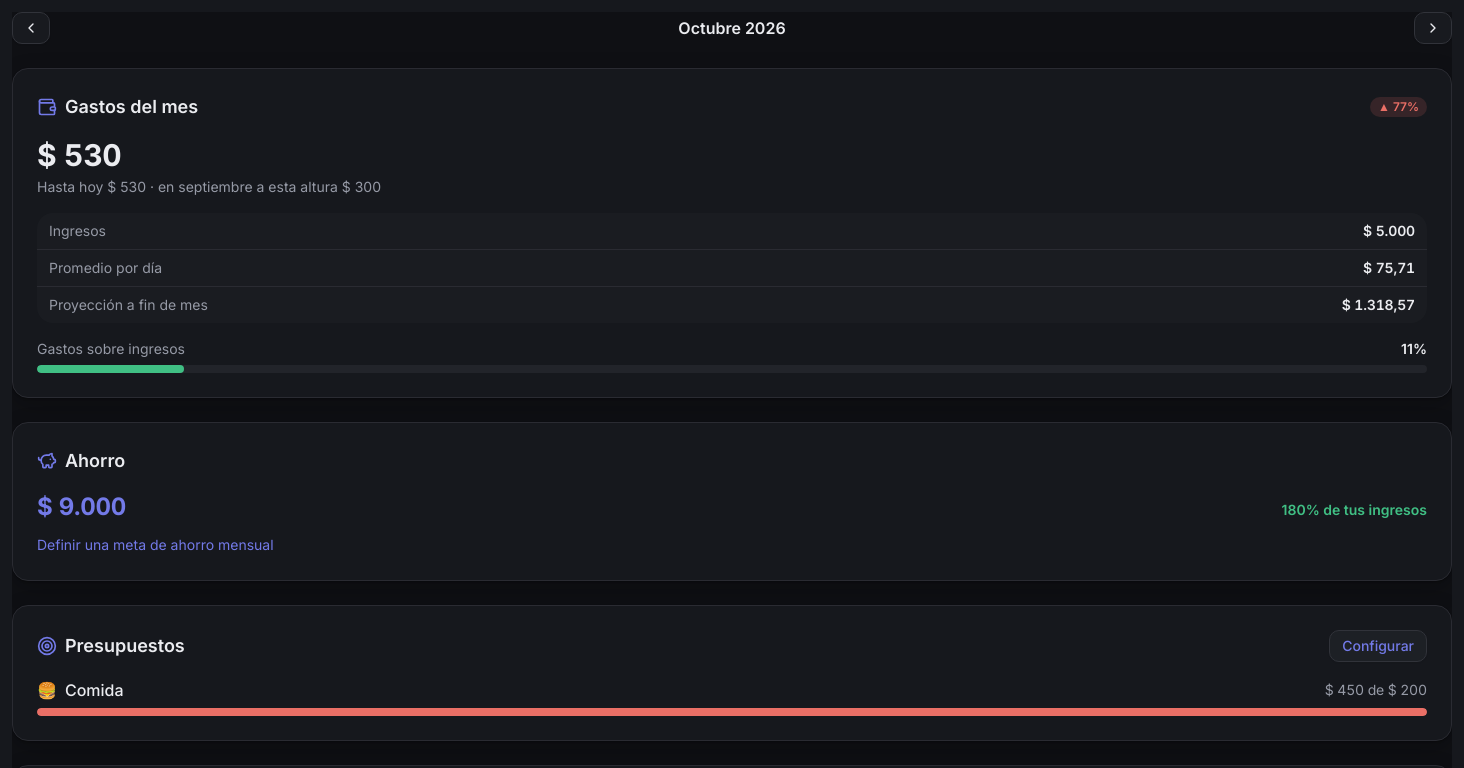
it: SummaryView (smoke) › moves to the previous month and offers a way back
Click the button named "Mes anterior" at (31, 28), box [12, 12, 50, 44]
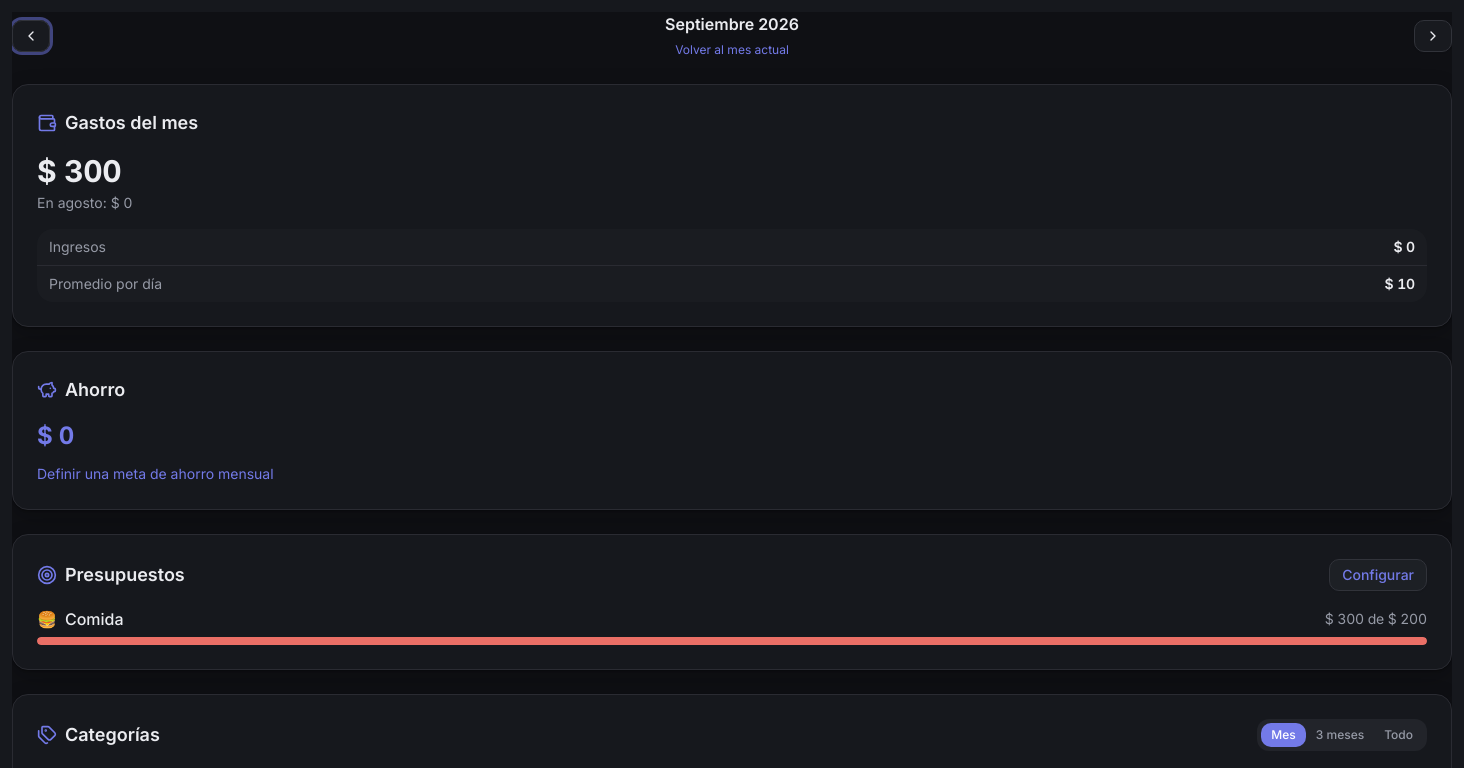
Expected: the element "Gastos del mes" shows "$ 300", [37, 153, 121, 189]
Expected: the button "Volver al mes actual" is shown, [675, 42, 789, 58]
